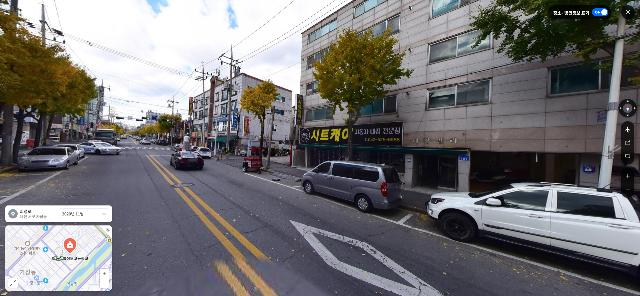ginkgo: (0, 0, 96, 168), (238, 79, 281, 171)
other: (464, 0, 640, 88), (312, 26, 415, 161)
